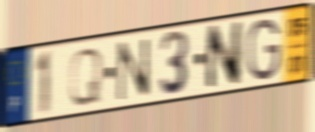1: (34, 47, 56, 119)
3: (157, 29, 192, 98)
G: (245, 16, 282, 83)
N: (204, 19, 244, 94), (116, 37, 152, 104)
Q: (67, 46, 105, 109)
